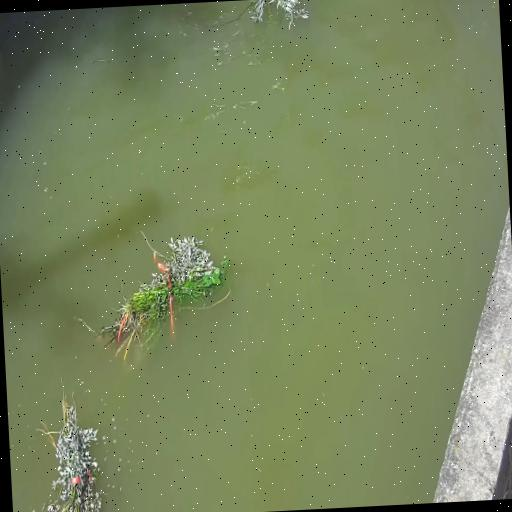twig: (82, 226, 234, 360), (28, 373, 107, 512), (244, 0, 309, 33)
